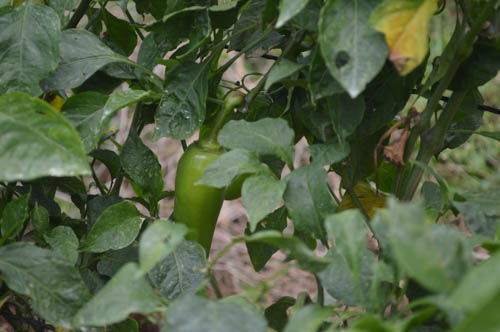ChiliPepper: (170, 143, 229, 256)
